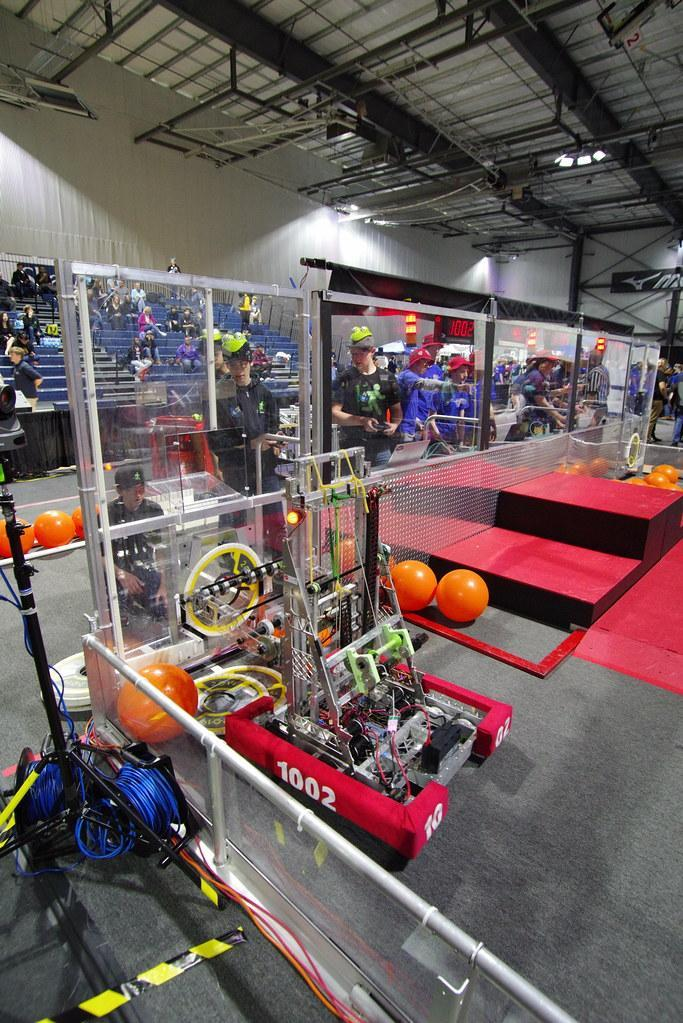robot: (173, 443, 521, 869)
